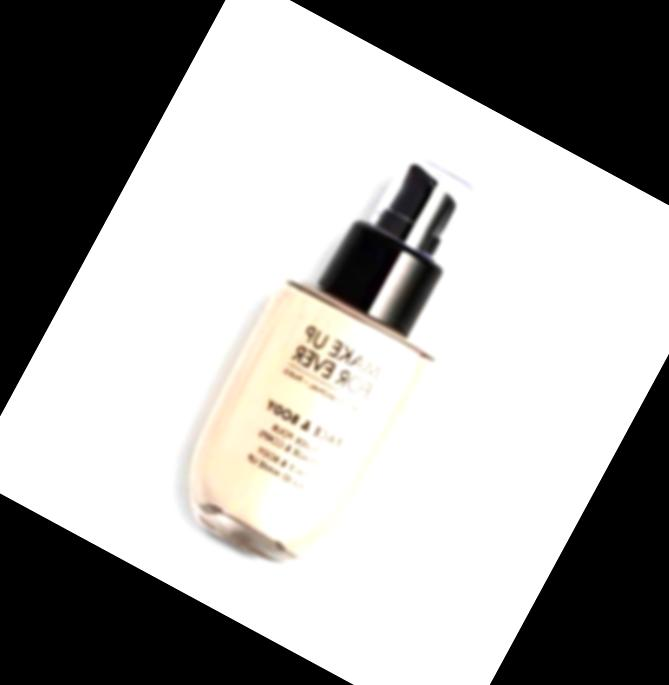cosmetic: (155, 123, 519, 590)
